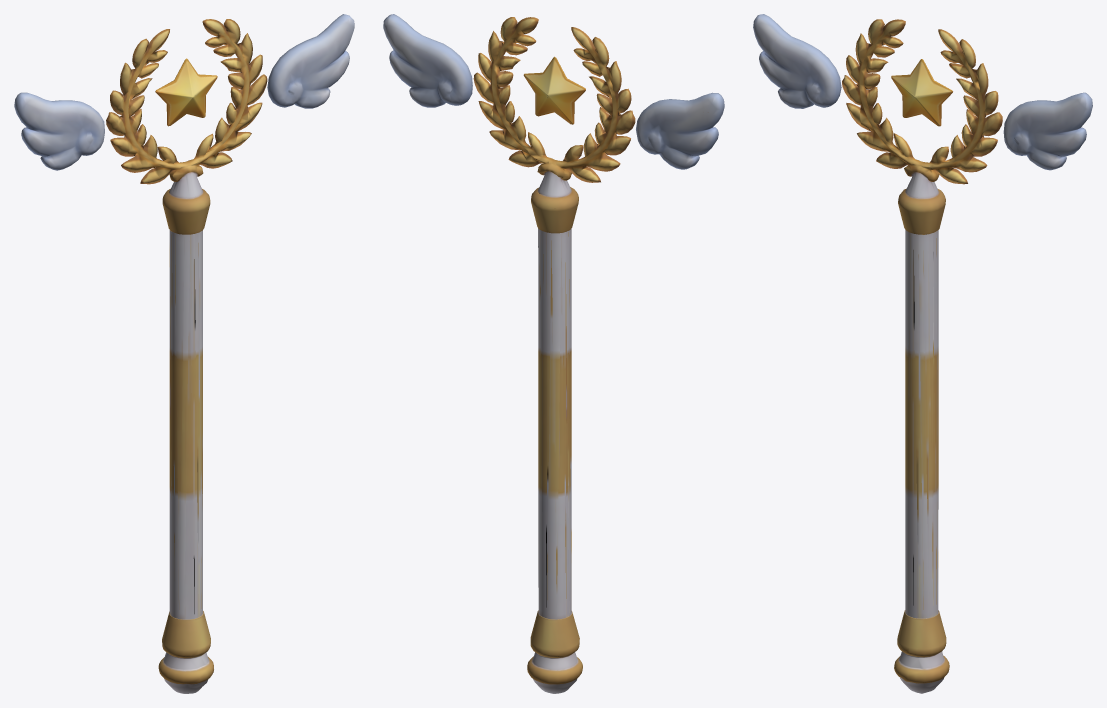
Rendered from wpn_nika.glb.
The picture shows the model from 3 angles, left to right: view 1: azimuth 30°, elevation 25°; view 2: azimuth 150°, elevation 25°; view 3: azimuth 330°, elevation 25°; orthographic projection.
Visible parts, largest first — view 1: geometry_0; view 2: geometry_0; view 3: geometry_0.
Boxes of the visible parts, x1,y1,x2,y2 form: geometry_0: (14, 14, 354, 693); geometry_0: (383, 14, 724, 693); geometry_0: (753, 14, 1092, 693).
Bounding box in the file's own units: 0.5054 × 0.9517 × 0.0728.
Materials: 1 (1 with a texture image).
